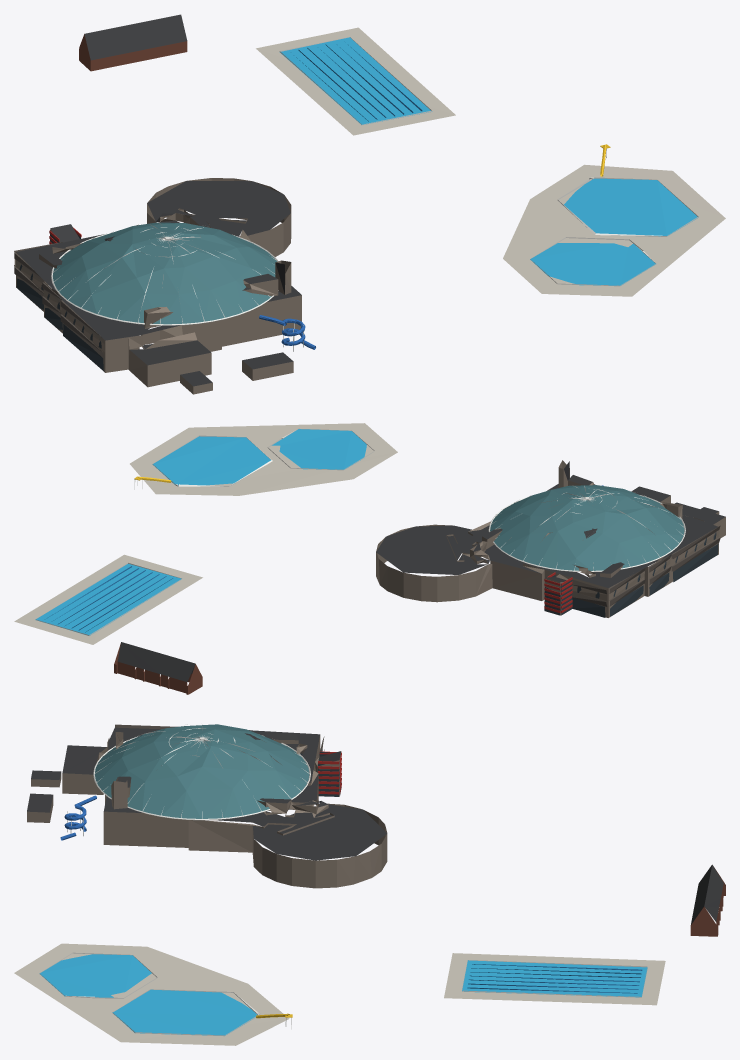
File: de-mirandabad.lod1.glb
3 views of the same model, one above another, from view 1: azimuth 30°, elevation 25°; view 2: azimuth 150°, elevation 25°; view 3: azimuth 270°, elevation 25° (orthographic). The views are drawn at different scales.
Parts seen in each view (by area): view 1: de-mirandabad; view 2: de-mirandabad; view 3: de-mirandabad.
Part boxes in pixels (<box>): de-mirandabad: <box>14,14,725,394</box>; de-mirandabad: <box>14,423,725,694</box>; de-mirandabad: <box>14,724,725,1045</box>.
Size of the model in its own units: 192 by 21.52 by 200.
